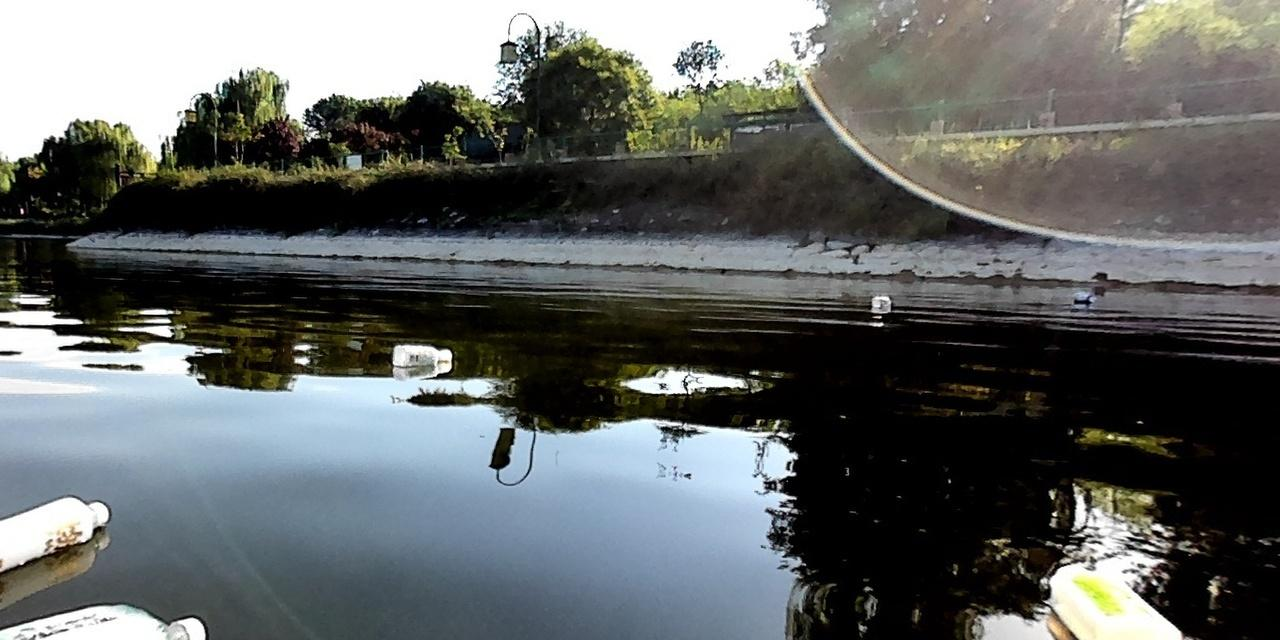bottle: (1043, 552, 1187, 639), (0, 492, 118, 577), (0, 594, 220, 639), (388, 338, 452, 367), (868, 289, 891, 308), (1069, 287, 1093, 304)
